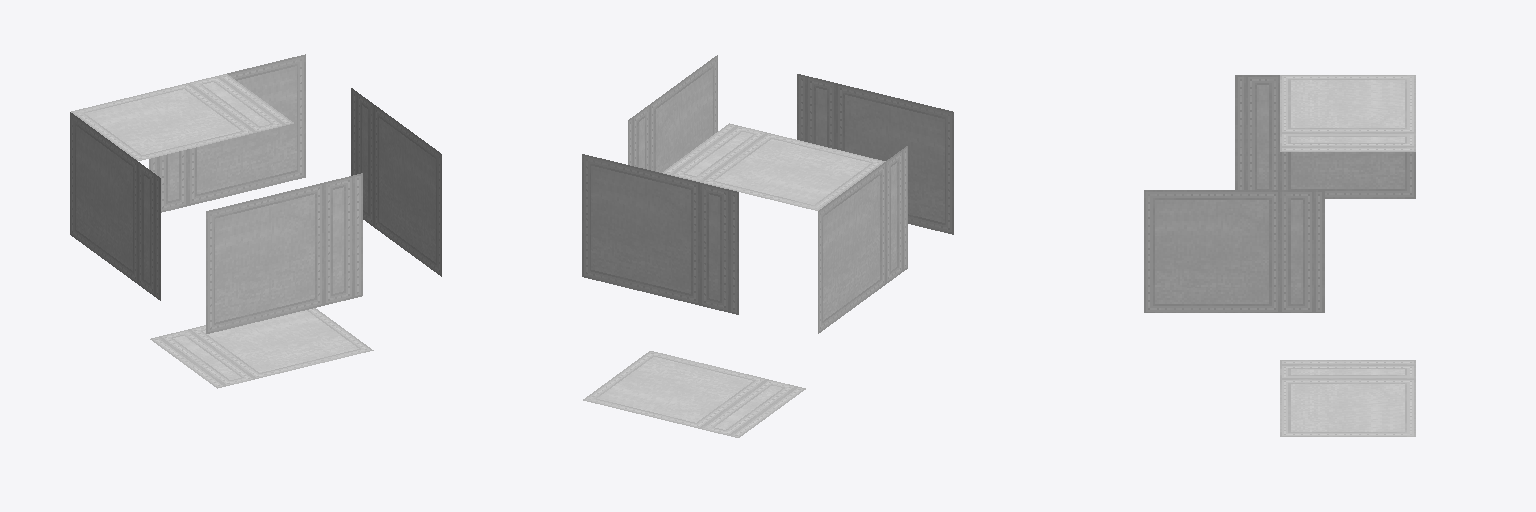
3 views of the same model, side by side, from view 1: azimuth 30°, elevation 25°; view 2: azimuth 150°, elevation 25°; view 3: azimuth 270°, elevation 25° (orthographic).
Visible parts, largest first — view 1: Mesh1 Model; view 2: Mesh1 Model; view 3: Mesh1 Model.
Boxes of the visible parts, box(x1,y1,x2,y2) form: Mesh1 Model: box(70, 54, 441, 388); Mesh1 Model: box(582, 55, 953, 437); Mesh1 Model: box(1144, 75, 1415, 436).
Size of the model in its own units: 1 by 1 by 1.
Materials: 1 (1 with a texture image).